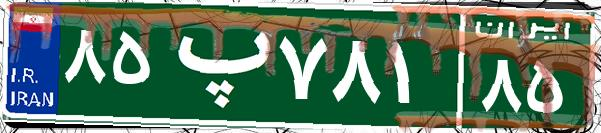1: (385, 28, 445, 110)
5: (110, 28, 158, 105), (525, 38, 570, 115)
7: (273, 28, 330, 110)
8: (330, 28, 385, 110), (57, 26, 110, 107), (475, 38, 525, 113)
پ: (158, 15, 273, 115)
